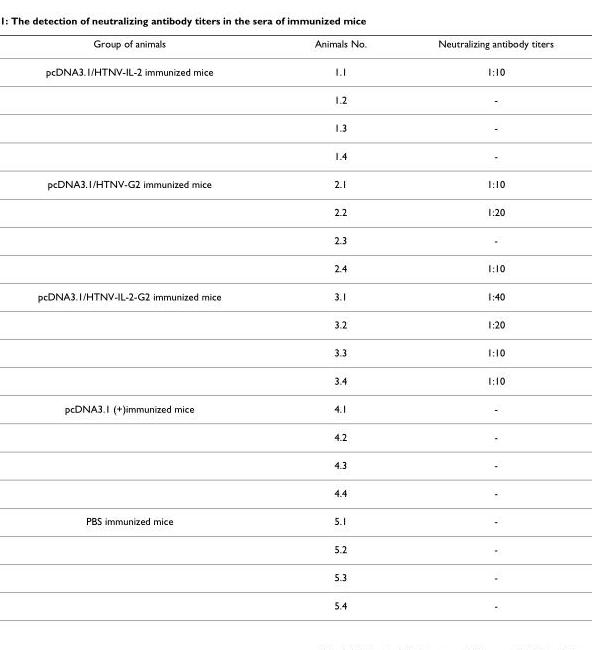table: (36, 37, 552, 610)
table column: (36, 37, 267, 610), (401, 37, 552, 610), (267, 37, 401, 610)
table column header: (36, 37, 552, 57)
table row: (36, 337, 552, 366), (36, 57, 552, 85), (36, 85, 552, 113), (36, 113, 552, 141), (36, 141, 552, 169), (36, 169, 552, 197), (36, 197, 552, 225), (36, 225, 552, 253), (36, 253, 552, 281), (36, 281, 552, 309), (36, 309, 552, 337), (36, 366, 552, 394), (36, 394, 552, 422), (36, 422, 552, 450), (36, 450, 552, 478), (36, 478, 552, 506), (36, 506, 552, 534), (36, 534, 552, 562), (36, 562, 552, 590), (36, 37, 552, 57), (36, 590, 552, 610)
table spanning cell: (36, 281, 267, 394), (36, 57, 267, 169), (36, 169, 267, 281), (36, 394, 267, 506), (36, 506, 267, 610)
